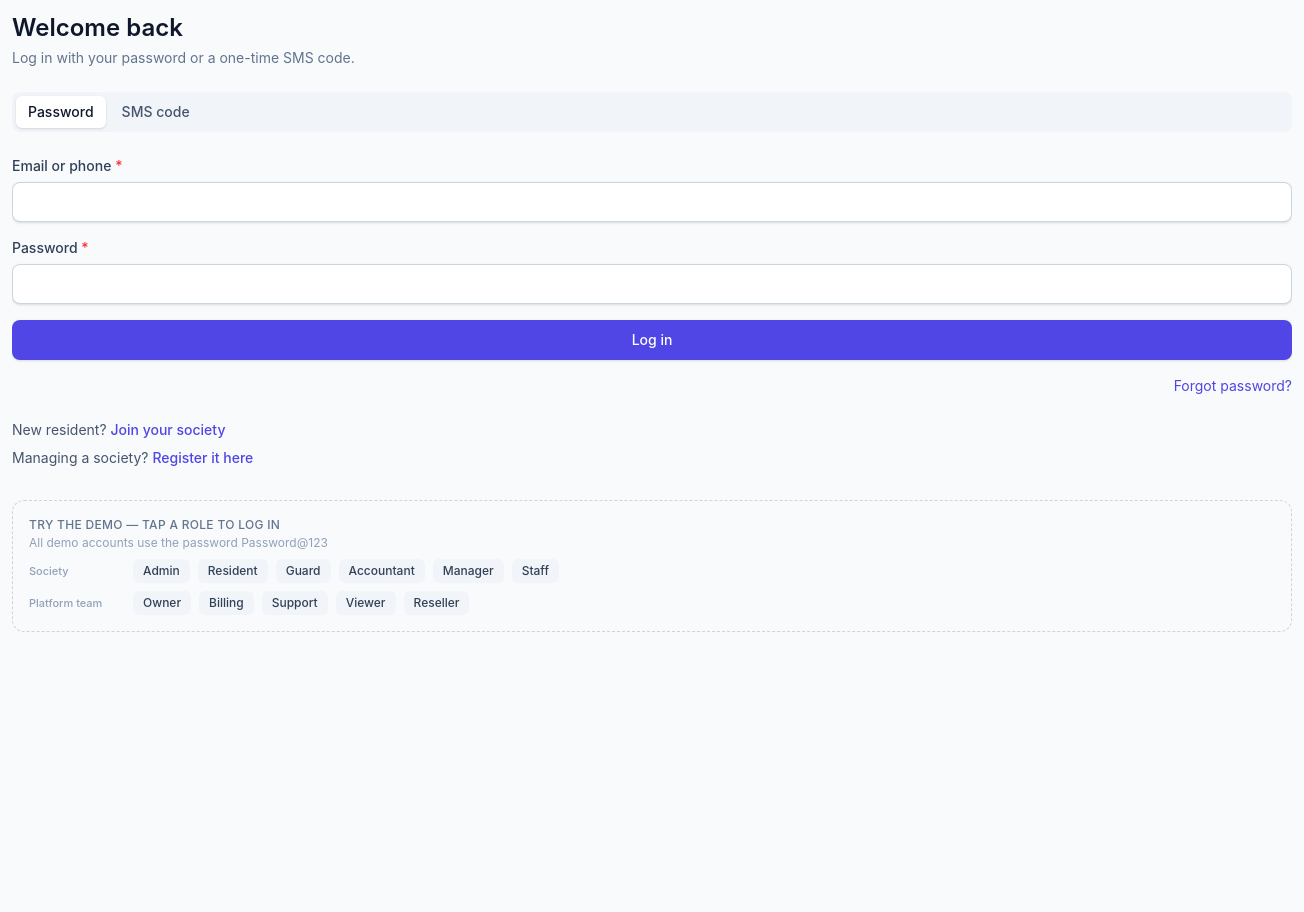
it: login page › shows the server message on bad credentials
This screenshot has width=1304, height=912.
Step 1. Type "x@demo.test" into the field labelled "Email or phone *" → (652,202), box [12,182,1292,222]
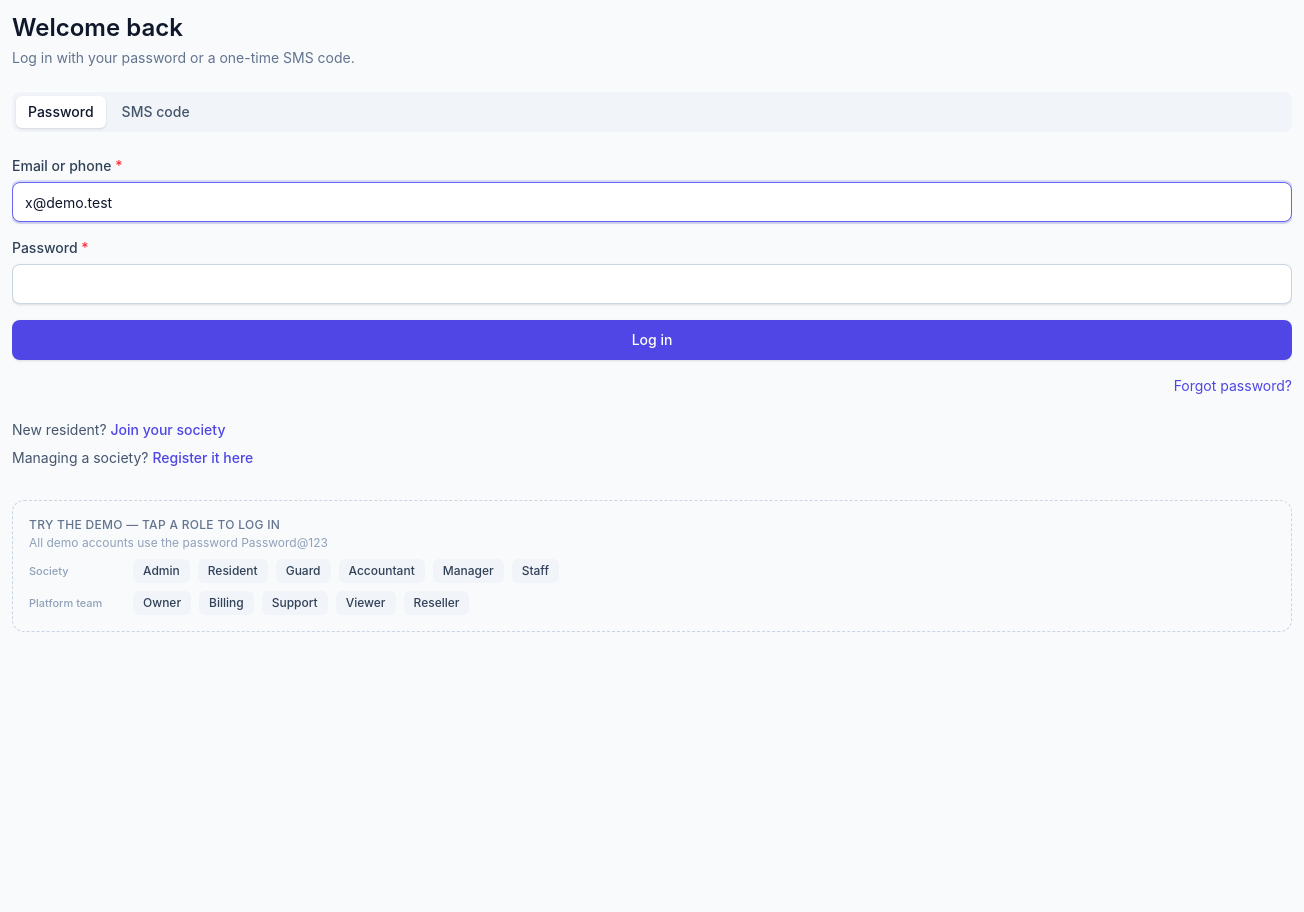
Step 2. Type "wrong-pass" into the password field labelled "Password *" → (652,284), box [12,264,1292,304]
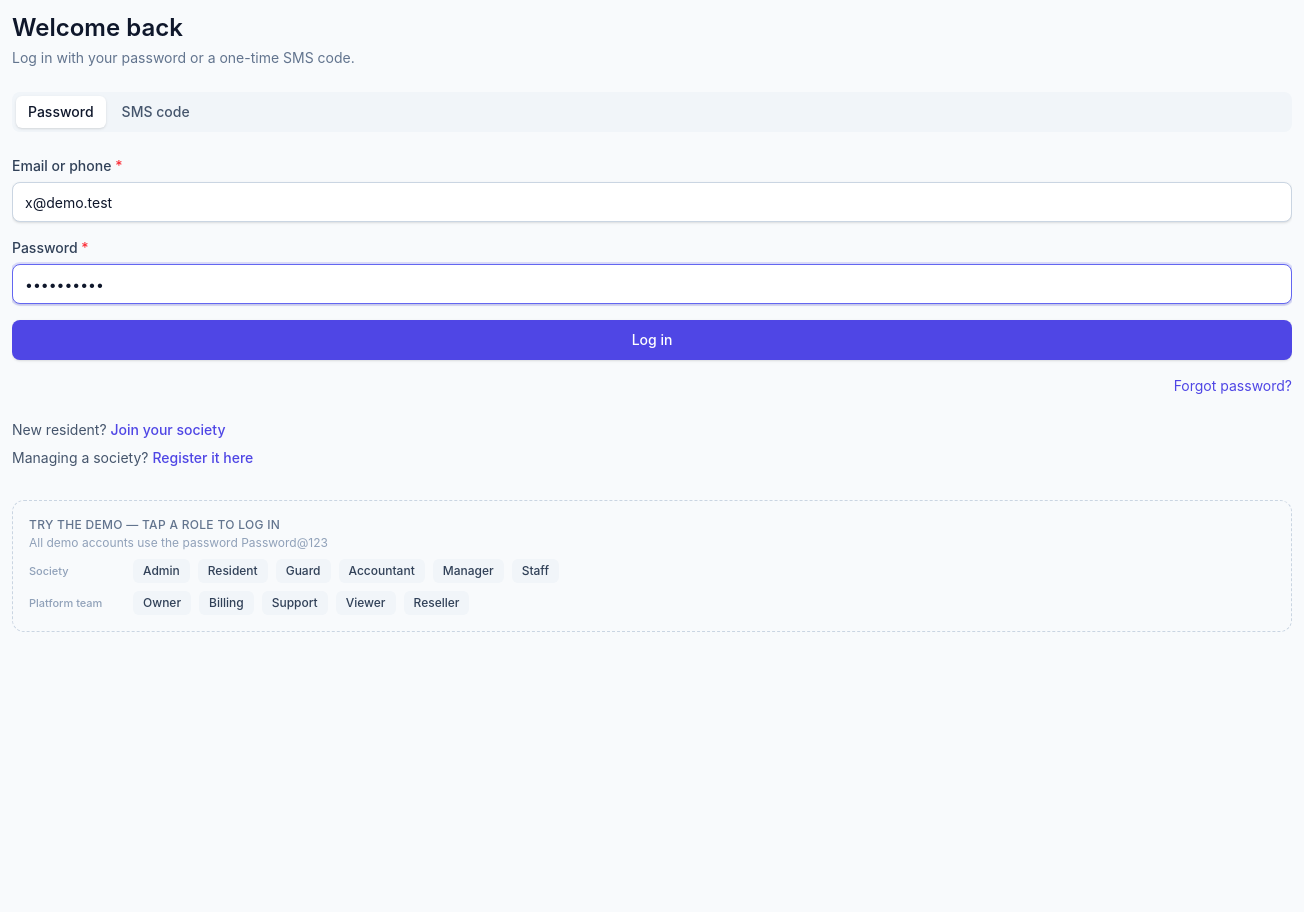
Step 3. Click the button "Log in" → (652,340), box [12,320,1292,360]
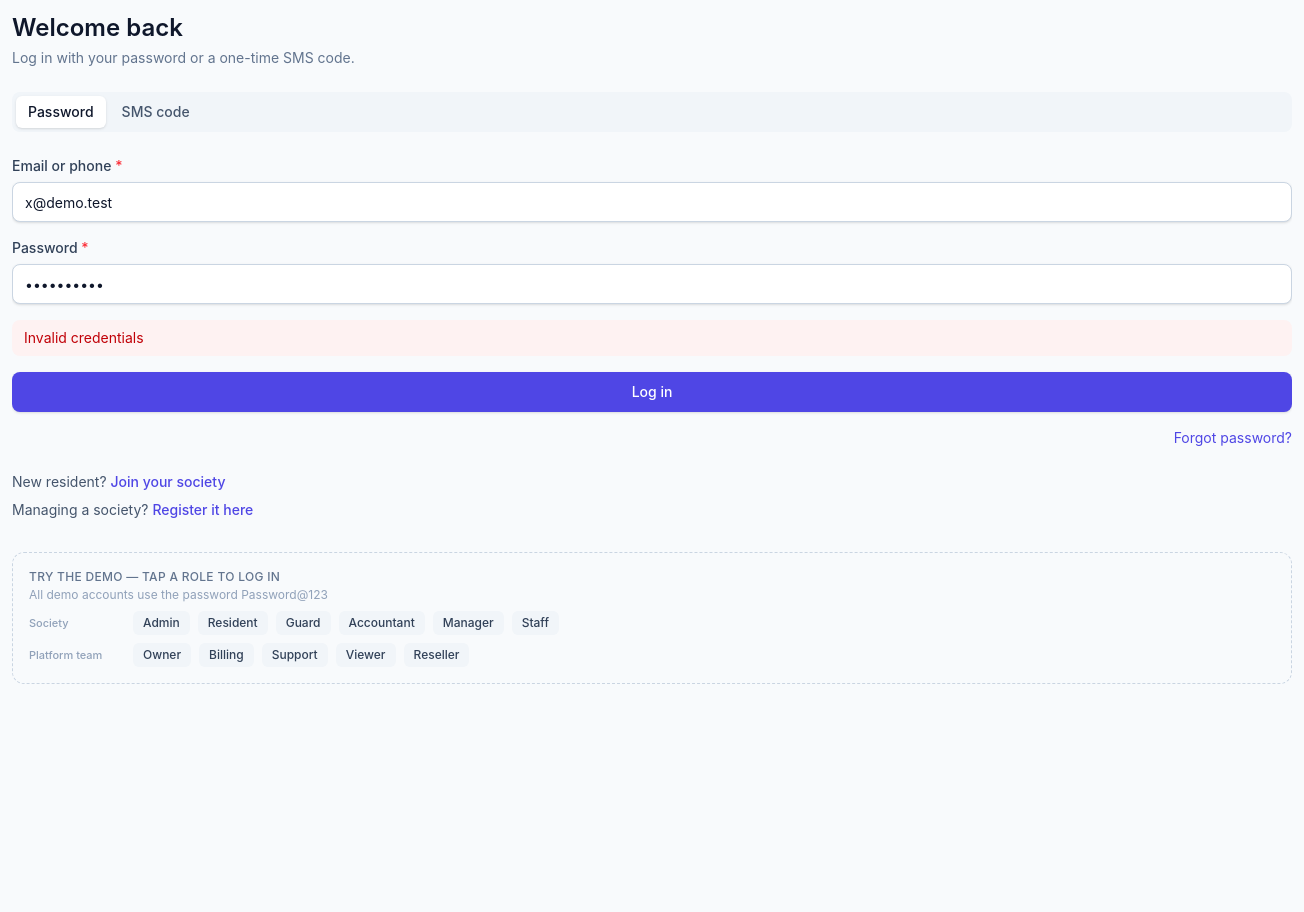
Check: the text "Invalid credentials" is shown, box [12,320,1292,356]
